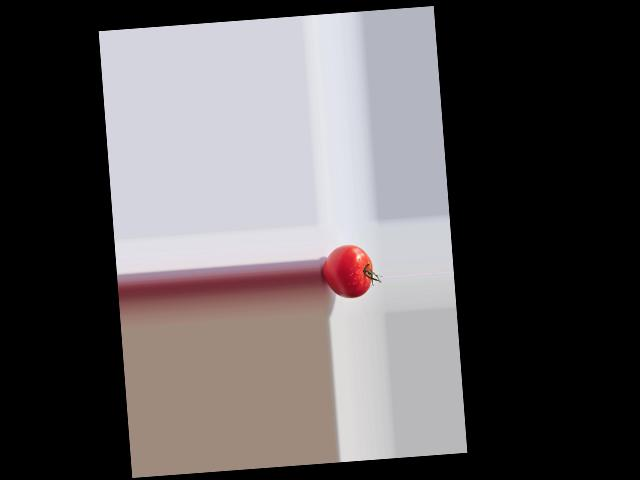tomato: (320, 242, 373, 299)
